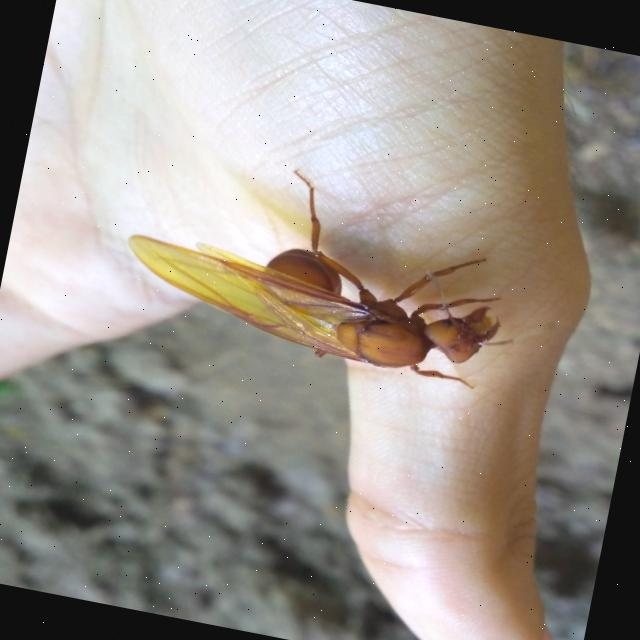Alive-Female-Alate: (112, 138, 578, 404)
